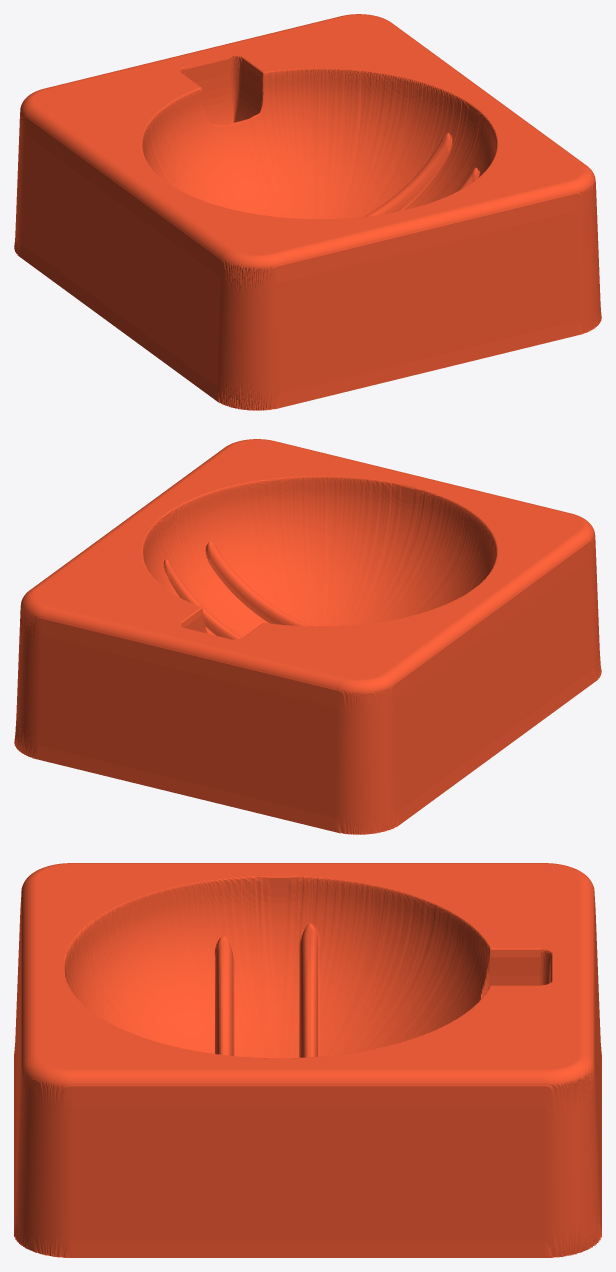
File: mold.glb
The picture shows the model from 3 angles, top to bottom: view 1: azimuth 30°, elevation 25°; view 2: azimuth 150°, elevation 25°; view 3: azimuth 270°, elevation 25°; orthographic projection. The views are drawn at different scales.
Visible parts, largest first — view 1: geometry_0; view 2: geometry_0; view 3: geometry_0.
Part boxes in pixels (x1,y1,x2,y2): geometry_0: (14, 14, 601, 410); geometry_0: (14, 439, 601, 834); geometry_0: (14, 863, 601, 1257).
Bounding box in the file's own units: 0.0834 × 0.031 × 0.0924.
